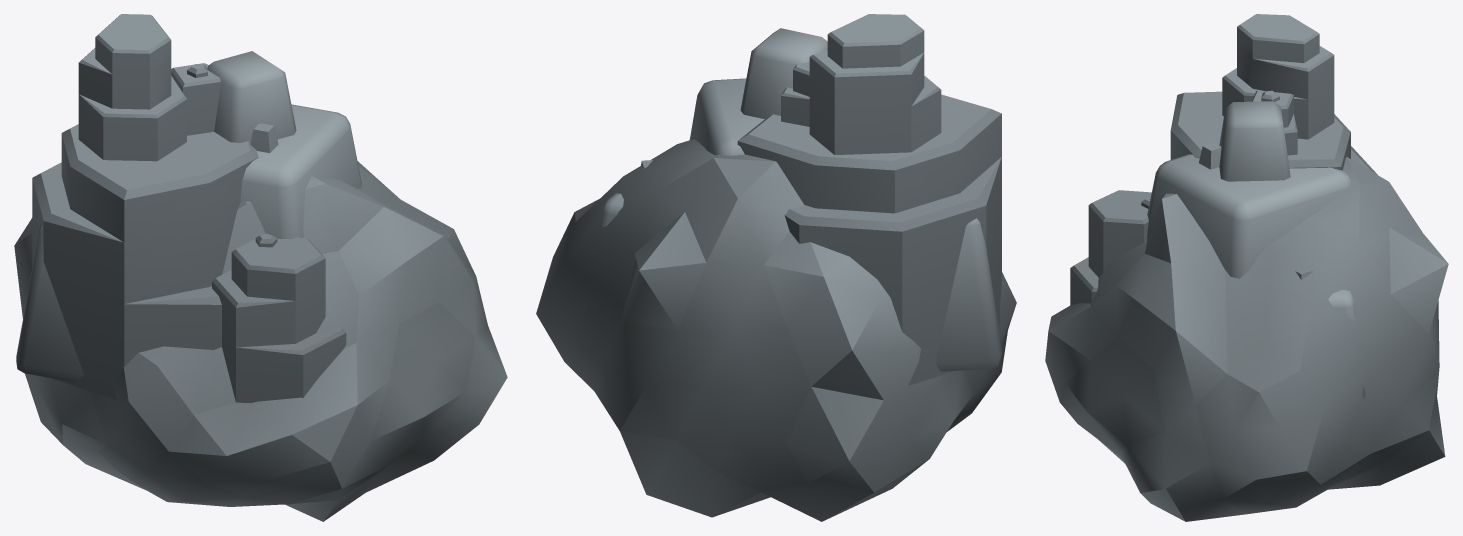
File: forest.glb
3 renders of one model, left to right at view 1: azimuth 30°, elevation 25°; view 2: azimuth 150°, elevation 25°; view 3: azimuth 270°, elevation 25°, orthographic. The views are drawn at different scales.
Parts seen in each view (by area): view 1: Rock_3_Q, Rock_1_J, Rock_2_F; view 2: Rock_3_Q, Rock_1_J, Rock_2_F; view 3: Rock_3_Q, Rock_1_J, Rock_2_F.
Part boxes in pixels (box(x1,y1,x2,y2)): Rock_3_Q: box(14, 161, 507, 521); Rock_1_J: box(32, 14, 346, 403); Rock_2_F: box(16, 51, 361, 382); Rock_3_Q: box(536, 139, 1016, 521); Rock_1_J: box(737, 14, 1001, 385); Rock_2_F: box(584, 28, 1002, 371); Rock_3_Q: box(1045, 157, 1448, 521); Rock_1_J: box(1070, 14, 1377, 305); Rock_2_F: box(1147, 101, 1365, 398).
Bounding box in the file's own units: 5.11 × 4.98 × 4.48.
Materials: 1 (1 with a texture image).
